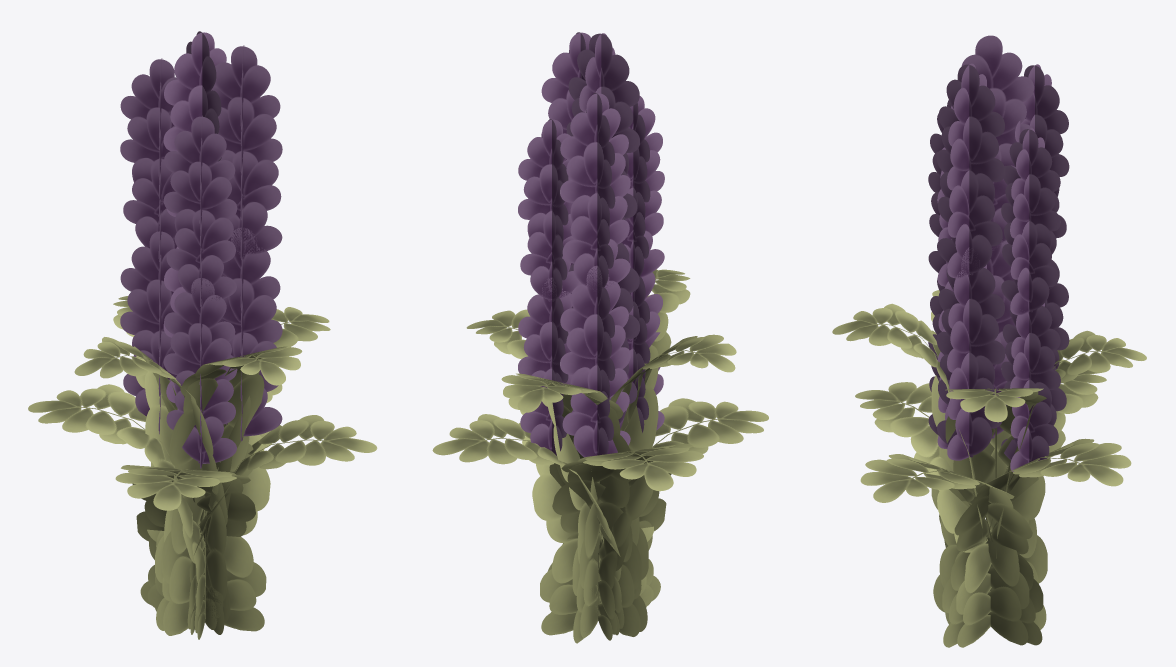
Rendered from Plant_Purple.fbx.
3 renders of one model, left to right at view 1: azimuth 30°, elevation 25°; view 2: azimuth 150°, elevation 25°; view 3: azimuth 270°, elevation 25°, orthographic.
Visible parts, largest first — view 1: Purple19, Purple3, snake17, Purple5, Purple7, snake21, Purple9, snake20, snake19, Purple, snake22, snake23 (+7 smaller); view 2: Purple4, Purple1, snake20, snake21, snake1, Purple13, snake19, snake22, snake23, snake17, Purple15, Purple11 (+12 smaller); view 3: snake20, Purple8, snake22, snake23, Purple10, snake21, Purple13, snake18, Purple15, Purple12, Purple19, snake17 (+11 smaller).
Boxes of the visible parts, <box> form: Purple19: <box>211,46,282,254</box>; Purple3: <box>163,116,237,300</box>; snake17: <box>162,346,302,635</box>; Purple5: <box>163,278,237,463</box>; Purple7: <box>120,59,177,248</box>; snake21: <box>28,384,205,639</box>; Purple9: <box>217,227,282,436</box>; snake20: <box>115,465,255,611</box>; snake19: <box>74,337,230,634</box>; Purple: <box>120,231,176,416</box>; snake22: <box>187,415,377,634</box>; snake23: <box>147,384,282,631</box>; Purple4: <box>560,93,630,291</box>; Purple1: <box>560,265,630,457</box>; snake20: <box>598,398,768,640</box>; snake21: <box>547,443,703,612</box>; snake1: <box>501,373,641,636</box>; Purple13: <box>518,119,579,301</box>; snake19: <box>579,334,736,638</box>; snake22: <box>508,395,654,635</box>; snake23: <box>432,414,624,635</box>; snake17: <box>620,269,690,631</box>; Purple15: <box>518,277,574,450</box>; Purple11: <box>566,33,639,220</box>; snake20: <box>855,382,991,647</box>; Purple8: <box>936,64,1005,275</box>; snake22: <box>860,454,1043,645</box>; snake23: <box>942,438,1131,647</box>; Purple10: <box>936,248,1005,457</box>; snake21: <box>939,359,1106,645</box>; Purple13: <box>1001,129,1060,312</box>; snake18: <box>945,388,1047,629</box>; Purple15: <box>1001,306,1060,462</box>; Purple12: <box>961,35,1034,250</box>; Purple19: <box>947,63,986,278</box>; snake17: <box>832,303,982,543</box>.
Bounding box in the file's own units: 11.6 × 21.38 × 11.14.
